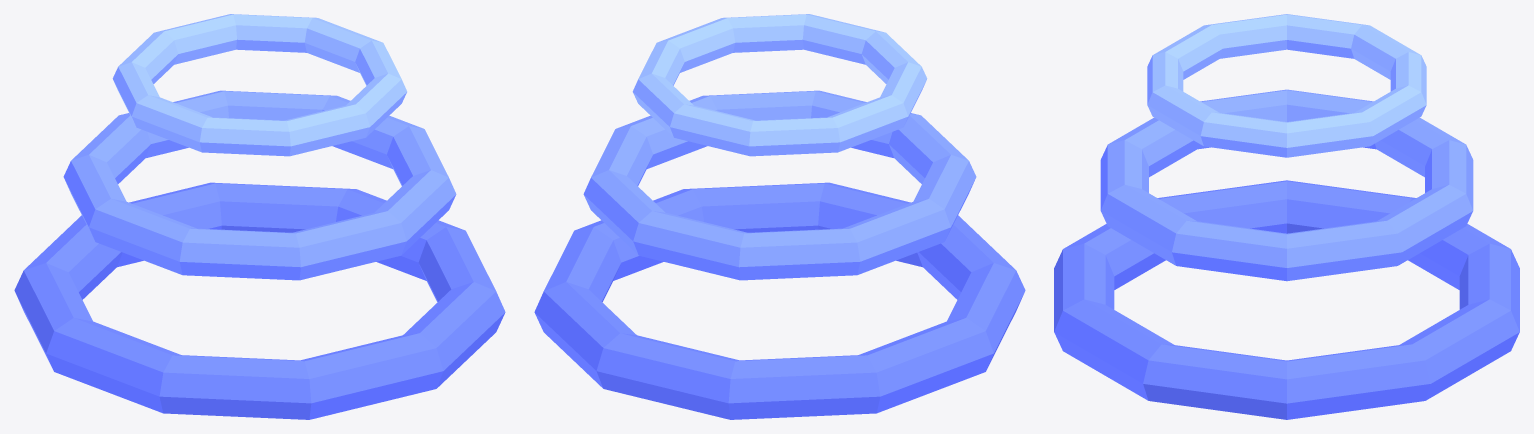
File: Rings.glb
The picture shows the model from 3 angles, left to right: view 1: azimuth 30°, elevation 25°; view 2: azimuth 150°, elevation 25°; view 3: azimuth 270°, elevation 25°; orthographic projection.
Parts seen in each view (by area): view 1: Torus, Torus.001, Torus.002; view 2: Torus, Torus.001, Torus.002; view 3: Torus, Torus.001, Torus.002.
Part boxes in pixels (<box>): Torus: <box>14,182,505,419</box>; Torus.001: <box>63,90,456,280</box>; Torus.002: <box>112,14,407,156</box>; Torus: <box>534,182,1025,419</box>; Torus.001: <box>583,90,976,280</box>; Torus.002: <box>632,14,927,156</box>; Torus: <box>1054,180,1519,419</box>; Torus.001: <box>1100,89,1473,281</box>; Torus.002: <box>1147,14,1426,157</box>.
Bounding box in the file's own units: 0.58 × 0.34 × 0.5516.
